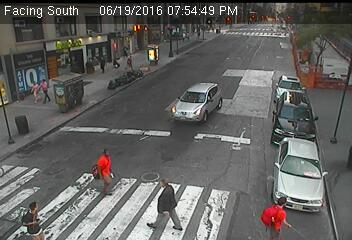neg: (13, 110, 29, 132), (150, 56, 164, 75), (160, 48, 174, 67), (286, 40, 299, 58), (3, 134, 16, 151), (213, 25, 223, 39), (187, 44, 194, 54)
pos: (144, 176, 188, 234), (85, 146, 123, 198), (37, 78, 57, 104), (92, 51, 111, 76)
